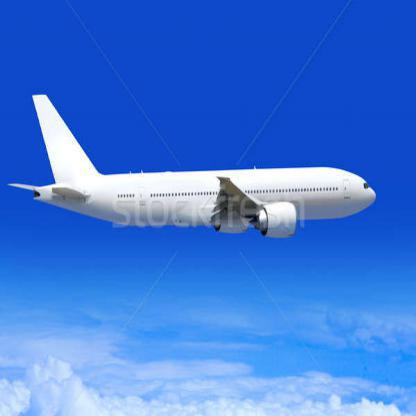CIV_Plane: (6, 80, 388, 241)
